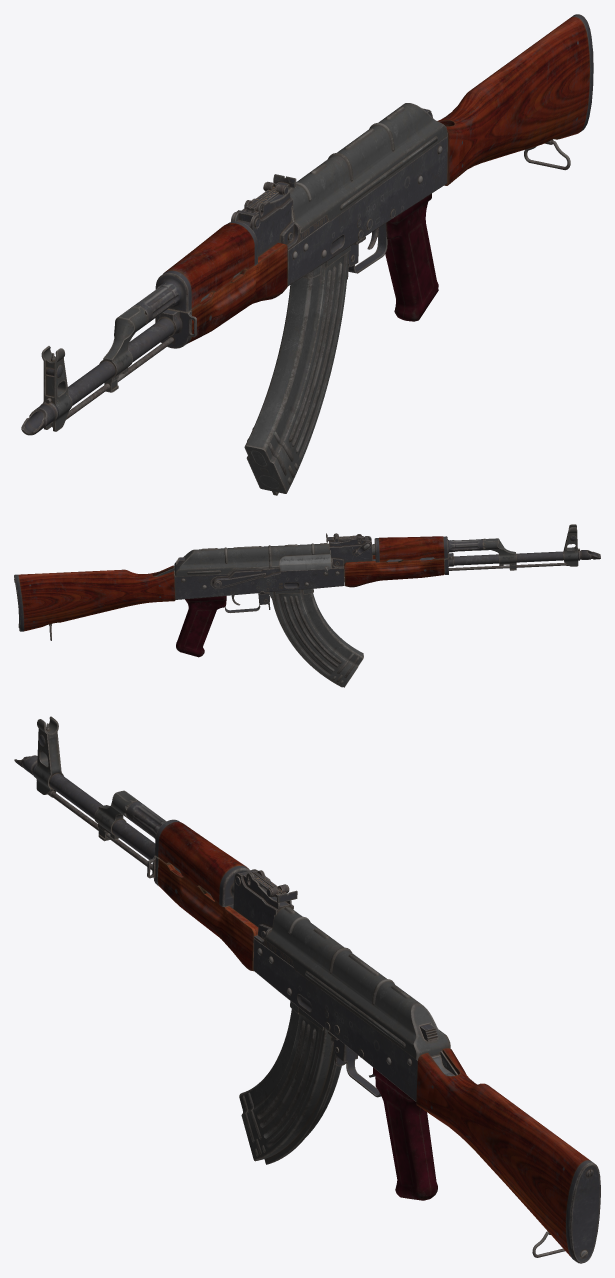
Rendered from akm.gltf.
3 renders of one model, top to bottom at view 1: azimuth 30°, elevation 25°; view 2: azimuth 150°, elevation 25°; view 3: azimuth 270°, elevation 25°, orthographic. The views are drawn at different scales.
Visible parts, largest first — view 1: AKM_Kalachnikov; view 2: AKM_Kalachnikov; view 3: AKM_Kalachnikov.
Boxes of the visible parts, bbox=[...] form: AKM_Kalachnikov: bbox=[21, 14, 593, 495]; AKM_Kalachnikov: bbox=[14, 524, 600, 687]; AKM_Kalachnikov: bbox=[14, 716, 600, 1263].
Size of the model in its own units: 0.7625 by 0.2669 by 0.4854.
Materials: 1 (1 with a texture image).
